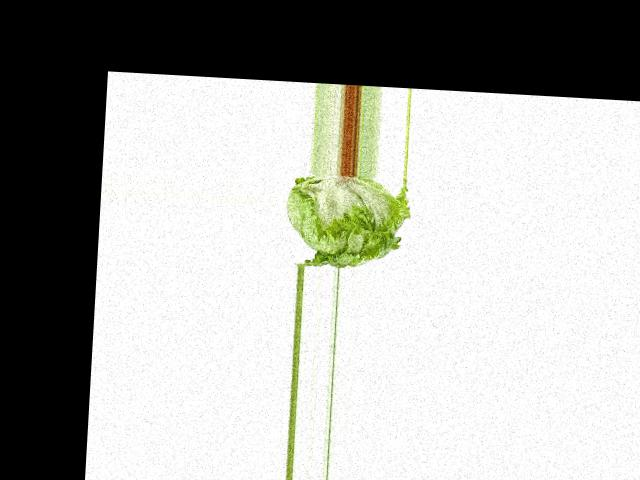lettuce: (279, 171, 416, 271)
